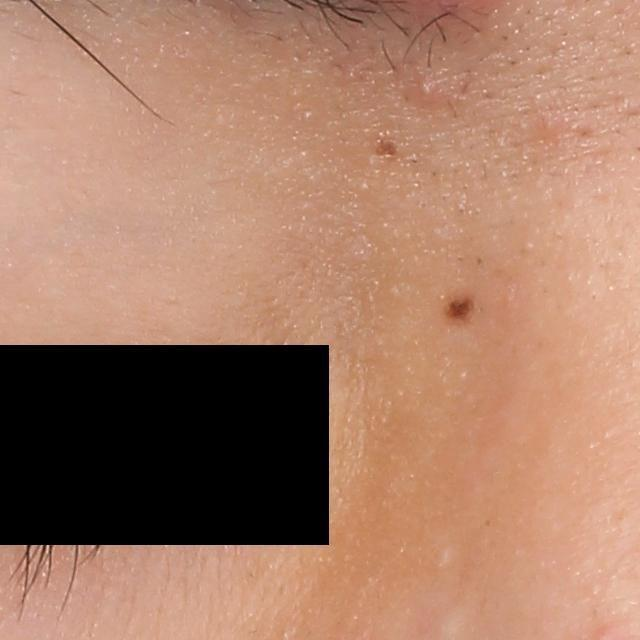nevus: (444, 289, 477, 322), (371, 137, 404, 159)
